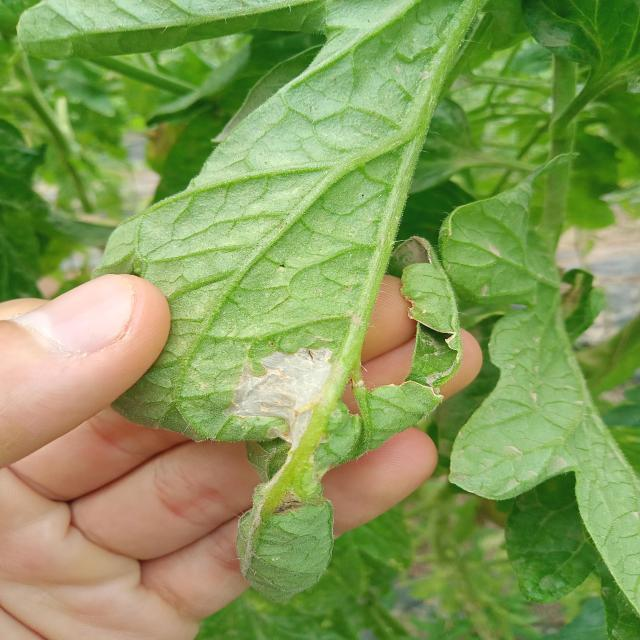Tuta absoluta: (223, 322, 338, 449)
